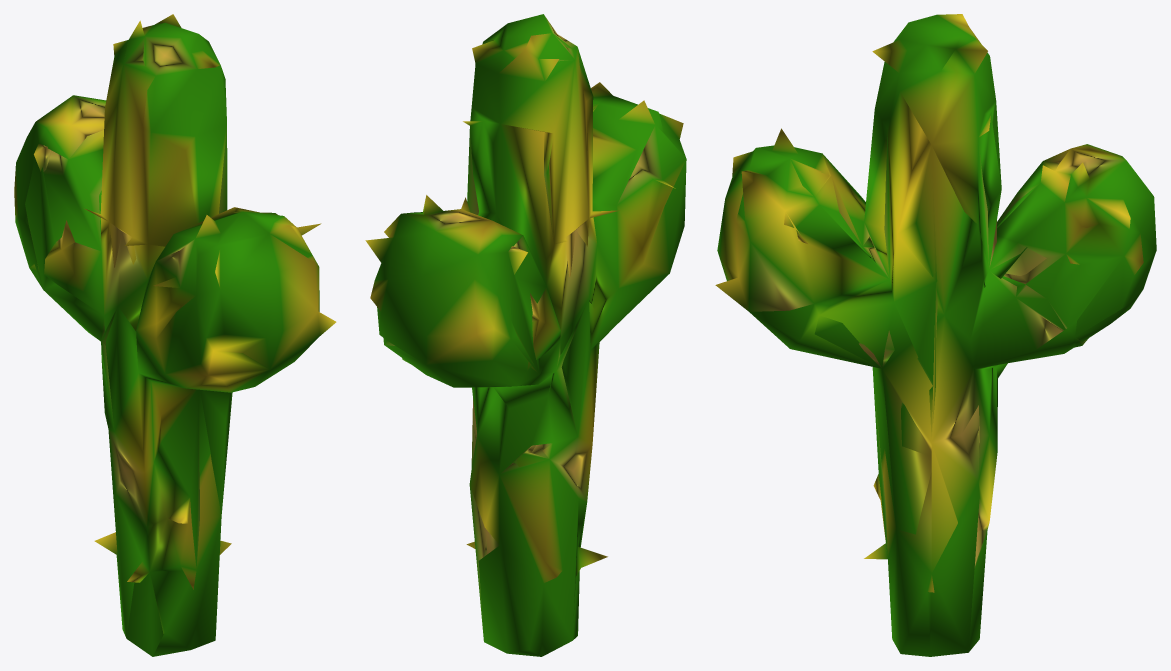
File: gen3d-cholla-cactus-lod1.glb
3 renders of one model, left to right at view 1: azimuth 30°, elevation 25°; view 2: azimuth 150°, elevation 25°; view 3: azimuth 270°, elevation 25°, orthographic.
Visible parts, largest first — view 1: part_0; view 2: part_0; view 3: part_0.
Part boxes in pixels (left/top/right/bottom): part_0: left=14, top=14, right=336, bottom=656; part_0: left=365, top=14, right=686, bottom=656; part_0: left=715, top=14, right=1156, bottom=656.
Bounding box in the file's own units: 0.2696 × 0.9883 × 0.6369.
